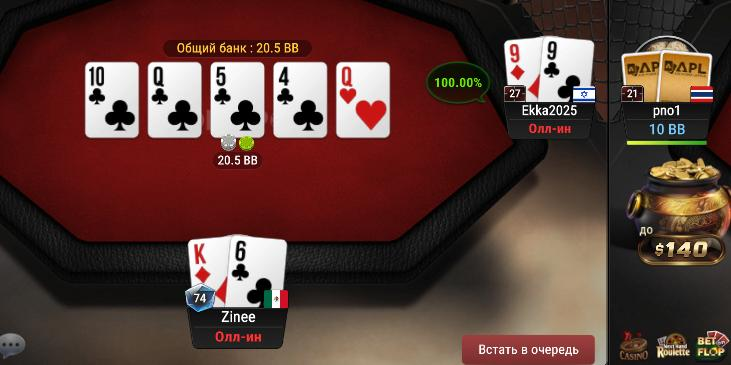10c: (85, 63, 138, 136)
4c: (273, 63, 326, 137)
5c: (212, 64, 264, 137)
6c: (229, 235, 286, 310)
9c: (540, 36, 594, 104)
9d: (504, 39, 542, 103)
Kd: (187, 239, 229, 305)
Qc: (149, 63, 201, 136)
Qh: (337, 63, 389, 138)
